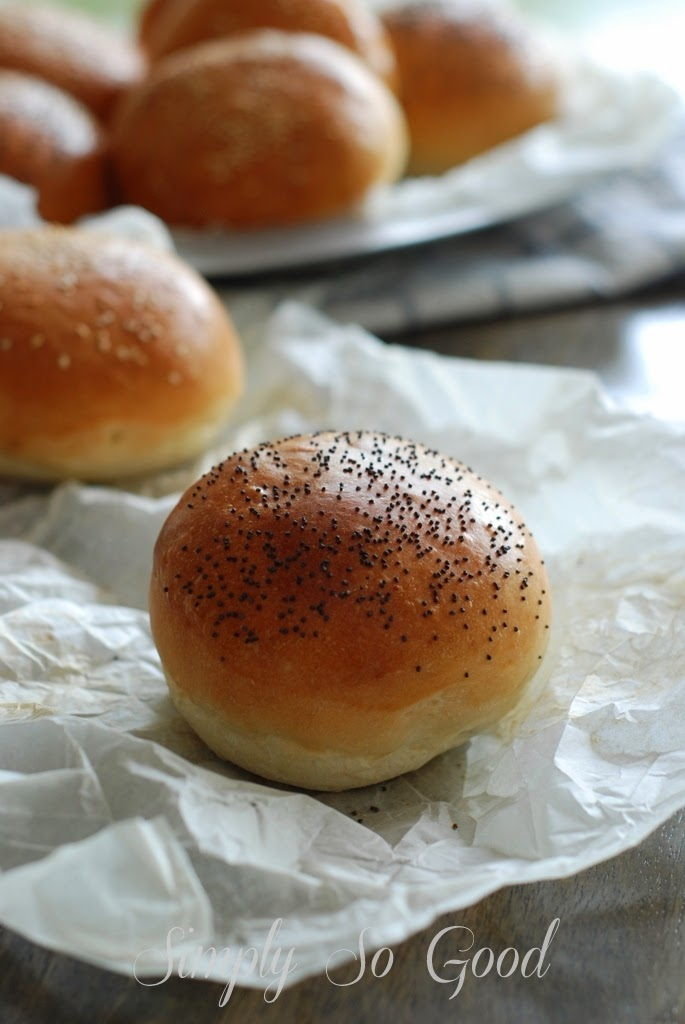hamburger_buns: (147, 430, 557, 778), (1, 215, 270, 490)
